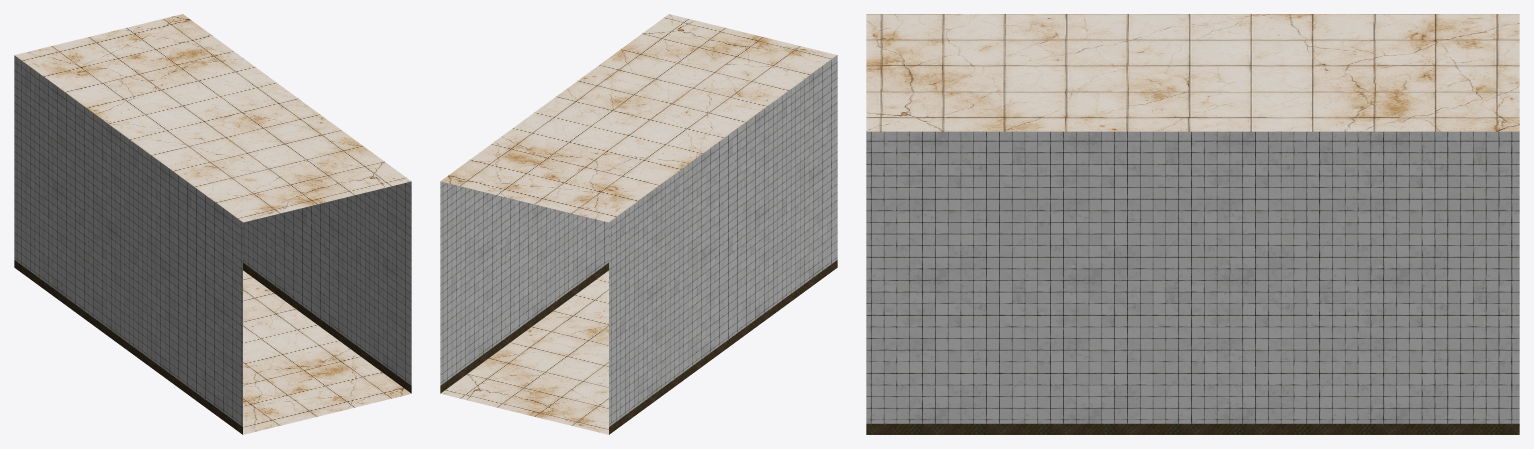
File: Corridor.fbx
The picture shows the model from 3 angles, left to right: view 1: azimuth 30°, elevation 25°; view 2: azimuth 150°, elevation 25°; view 3: azimuth 270°, elevation 25°; orthographic projection. The views are drawn at different scales.
Visible parts, largest first — view 1: Corridor; view 2: Corridor; view 3: Corridor.
Part boxes in pixels (left/top/right/bottom): Corridor: left=14, top=14, right=411, bottom=434; Corridor: left=440, top=14, right=837, bottom=434; Corridor: left=866, top=14, right=1519, bottom=434.
Size of the model in its own units: 213 by 256 by 500.
